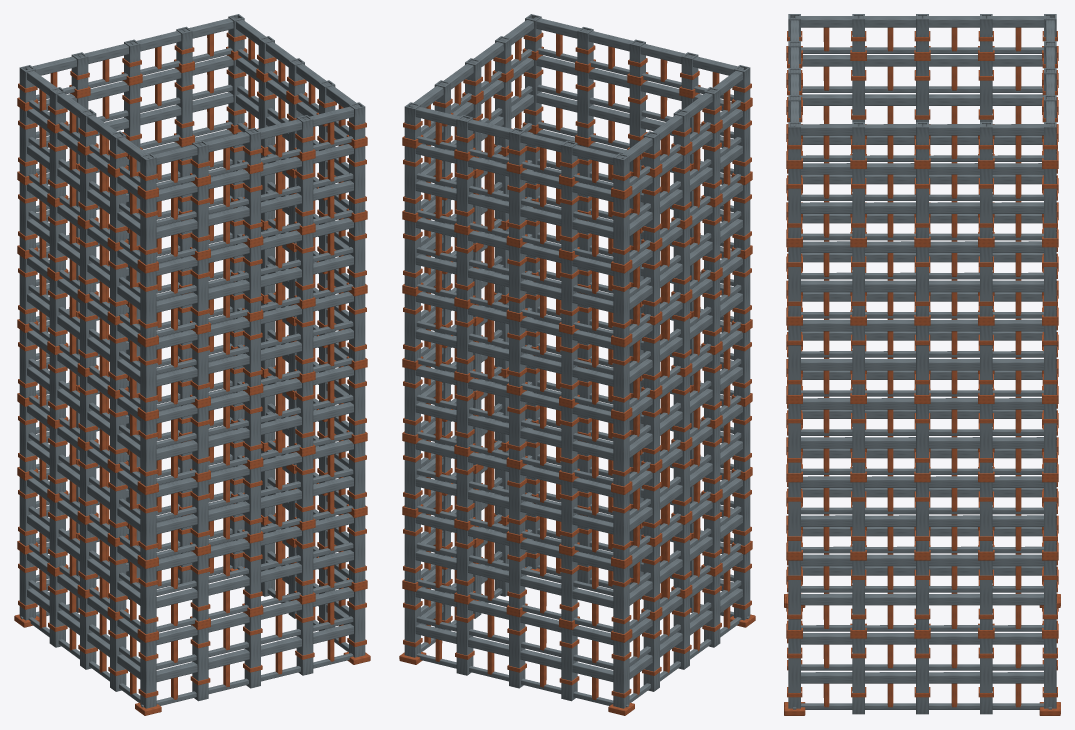
The picture shows the model from 3 angles, left to right: view 1: azimuth 30°, elevation 25°; view 2: azimuth 150°, elevation 25°; view 3: azimuth 270°, elevation 25°; orthographic projection. The views are drawn at different scales.
Parts seen in each view (by area): view 1: Tier 0 side 0 post 0, Tier 5 side 0 post 0, Tier 0 side 0 post 3, Tier 1 side 0 post 0, Tier 3 side 0 post 0, Tier 6 side 0 post 0, Tier 4 side 0 post 0, Tier 2 side 0 post 0, Tier 0 side 0 post 1, Tier 0 side 0 post 2, Tier 2 side 0 post 3, Tier 1 side 0 post 3 (+55 smaller); view 2: Tier 0 side 3 post 0, Tier 0 side 2 post 1, Tier 5 side 3 post 0, Tier 1 side 3 post 0, Tier 3 side 3 post 0, Tier 4 side 3 post 0, Tier 6 side 3 post 0, Tier 2 side 3 post 0, Tier 0 side 2 post 3, Tier 0 side 2 post 2, Tier 2 side 2 post 1, Tier 1 side 2 post 1 (+55 smaller); view 3: Tier 0 side 1 post 1, Tier 0 side 1 post 2, Tier 0 side 1 post 3, Tier 2 side 1 post 0, Tier 2 side 1 post 1, Tier 2 side 1 post 2, Tier 2 side 1 post 3, Tier 2 side 2 post 0, Tier 6 side 1 post 0, Tier 6 side 1 post 1, Tier 6 side 1 post 2, Tier 6 side 1 post 3 (+116 smaller).
Part boxes in pixels (x1,y1,x2,y2): Tier 0 side 0 post 0: (140, 639, 156, 708); Tier 5 side 0 post 0: (140, 270, 156, 338); Tier 0 side 0 post 3: (296, 602, 313, 675); Tier 1 side 0 post 0: (140, 565, 156, 634); Tier 3 side 0 post 0: (140, 418, 156, 486); Tier 6 side 0 post 0: (140, 196, 156, 264); Tier 4 side 0 post 0: (140, 344, 156, 412); Tier 2 side 0 post 0: (140, 491, 156, 560); Tier 0 side 0 post 1: (192, 627, 208, 701); Tier 0 side 0 post 2: (244, 615, 260, 688); Tier 2 side 0 post 3: (296, 454, 313, 521); Tier 1 side 0 post 3: (296, 528, 313, 595); Tier 0 side 3 post 0: (613, 639, 629, 708); Tier 0 side 2 post 1: (456, 602, 473, 675); Tier 5 side 3 post 0: (613, 270, 629, 338); Tier 1 side 3 post 0: (613, 565, 629, 634); Tier 3 side 3 post 0: (613, 418, 629, 486); Tier 4 side 3 post 0: (613, 344, 629, 412); Tier 6 side 3 post 0: (613, 196, 629, 264); Tier 2 side 3 post 0: (613, 491, 629, 560); Tier 0 side 2 post 3: (561, 627, 577, 701); Tier 0 side 2 post 2: (509, 615, 525, 688); Tier 2 side 2 post 1: (456, 454, 473, 521); Tier 1 side 2 post 1: (456, 528, 473, 595); Tier 0 side 1 post 1: (852, 638, 864, 714); Tier 0 side 1 post 2: (916, 638, 928, 714); Tier 0 side 1 post 3: (980, 638, 992, 714); Tier 2 side 1 post 0: (788, 482, 800, 551); Tier 2 side 1 post 1: (852, 482, 864, 551); Tier 2 side 1 post 2: (916, 482, 928, 551); Tier 2 side 1 post 3: (980, 482, 992, 551); Tier 2 side 2 post 0: (1044, 482, 1056, 551); Tier 6 side 1 post 0: (788, 169, 800, 238); Tier 6 side 1 post 1: (852, 169, 864, 238); Tier 6 side 1 post 2: (916, 169, 928, 238); Tier 6 side 1 post 3: (980, 169, 992, 238).
Size of the model in its own units: 1.95 by 4.56 by 1.95.
2 materials, 2 textured.
